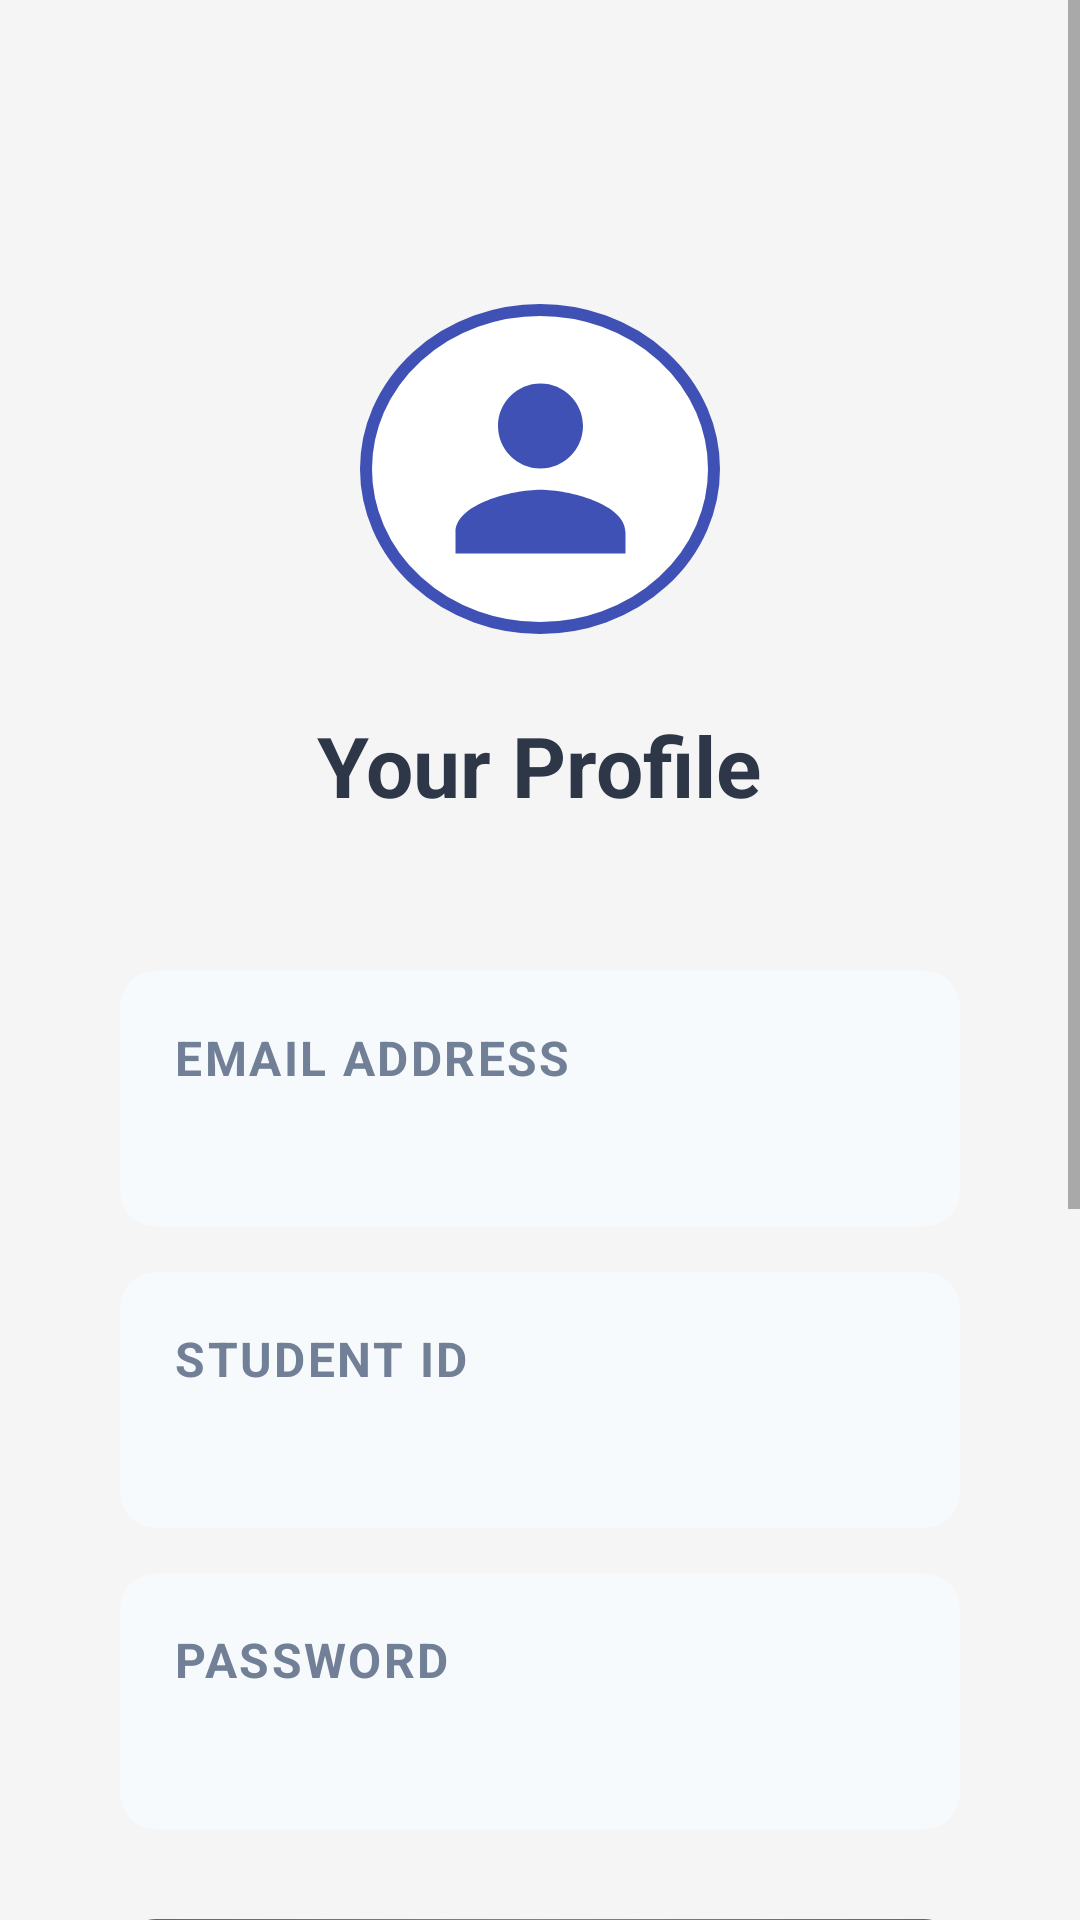

Screen size 1080*1920. Icon name, then its center in pixels as (x=x, y=y):
person profile: (x=540, y=468)
